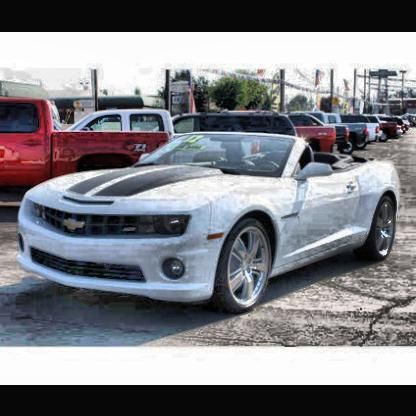Chevrolet Camaro Convertible 2012: (15, 132, 403, 317)
